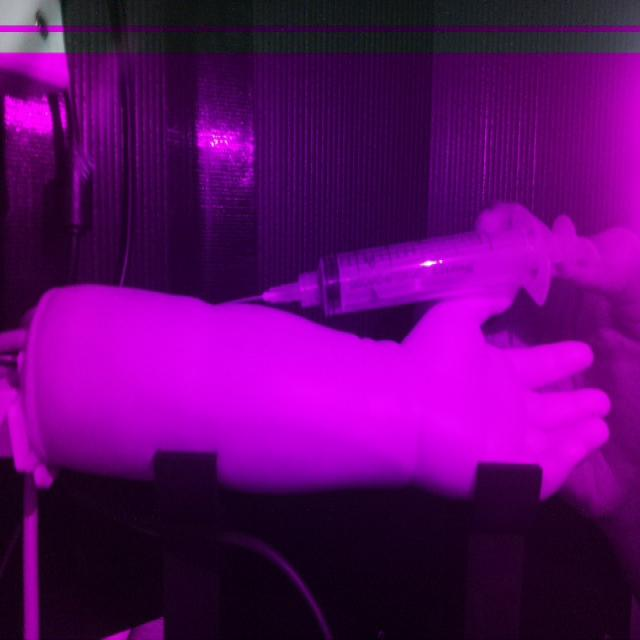Outside: (218, 196, 580, 318)
